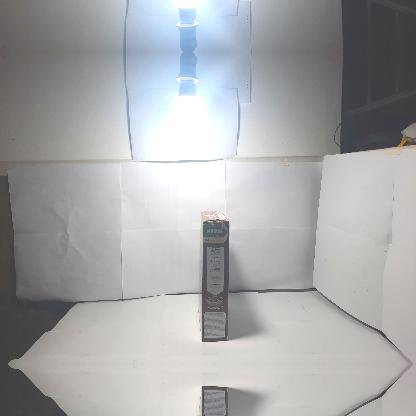Koko-Krunch: (197, 210, 229, 341), (197, 386, 230, 415)
